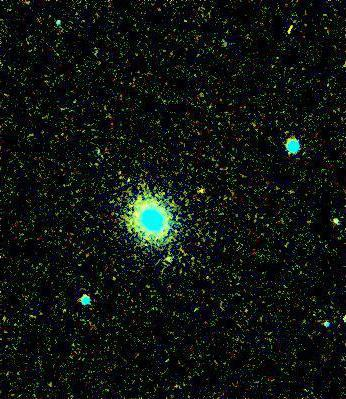star: (187, 175, 217, 205)
